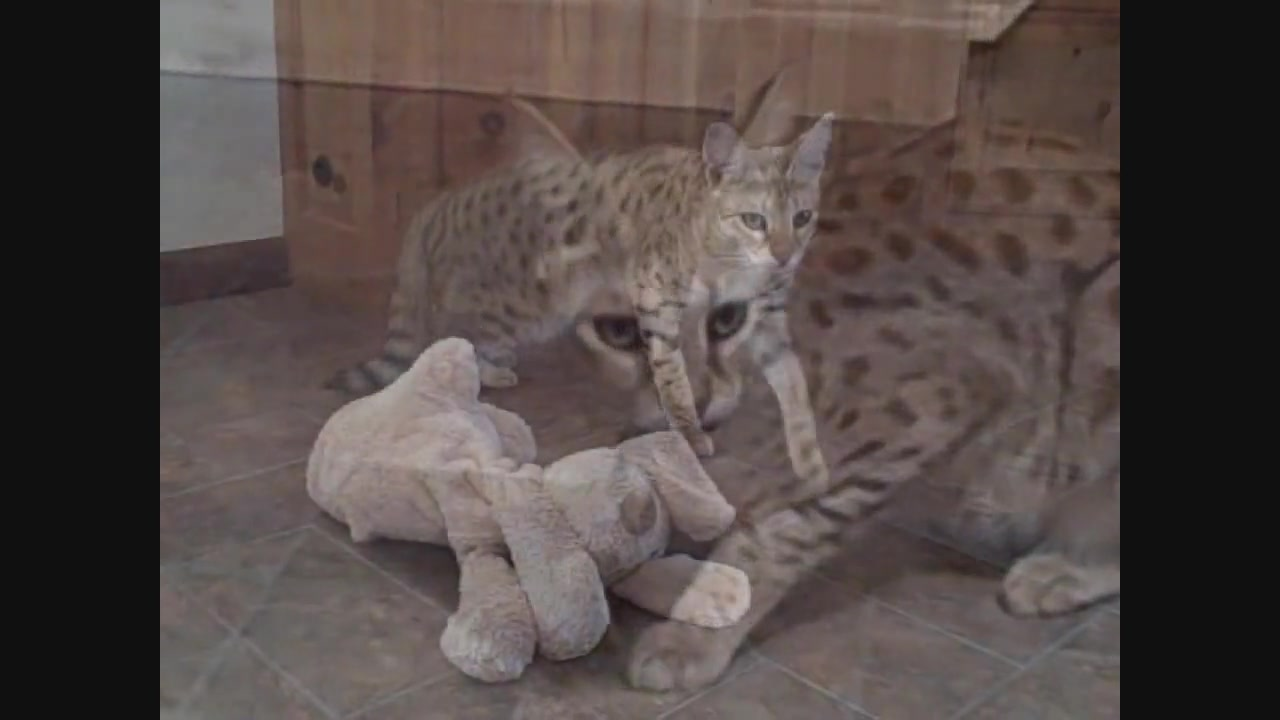cat: (309, 114, 844, 485)
